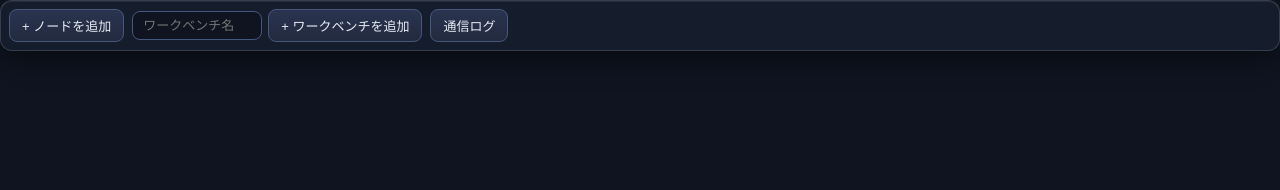
Scenario: CanvasToolbar › pre-click hint tooltips (Issue #123 §4-1) › shows the generic add-workbench hint on focus when no RPC target is resolvable
Focus the button "+ ワークベンチを追加" at (345, 26), box top-left (268, 9), bottom-right (422, 42)
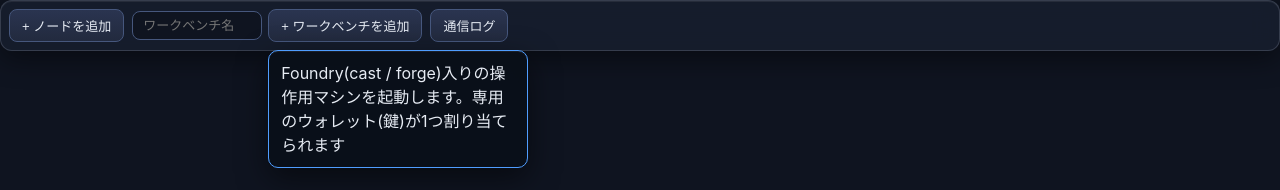
Now the tooltip reads "Foundry(cast / forge)入りの操作用マシンを起動します。専用のウォレット(鍵)が1つ割り当てられます", box top-left (281, 63), bottom-right (507, 155)
